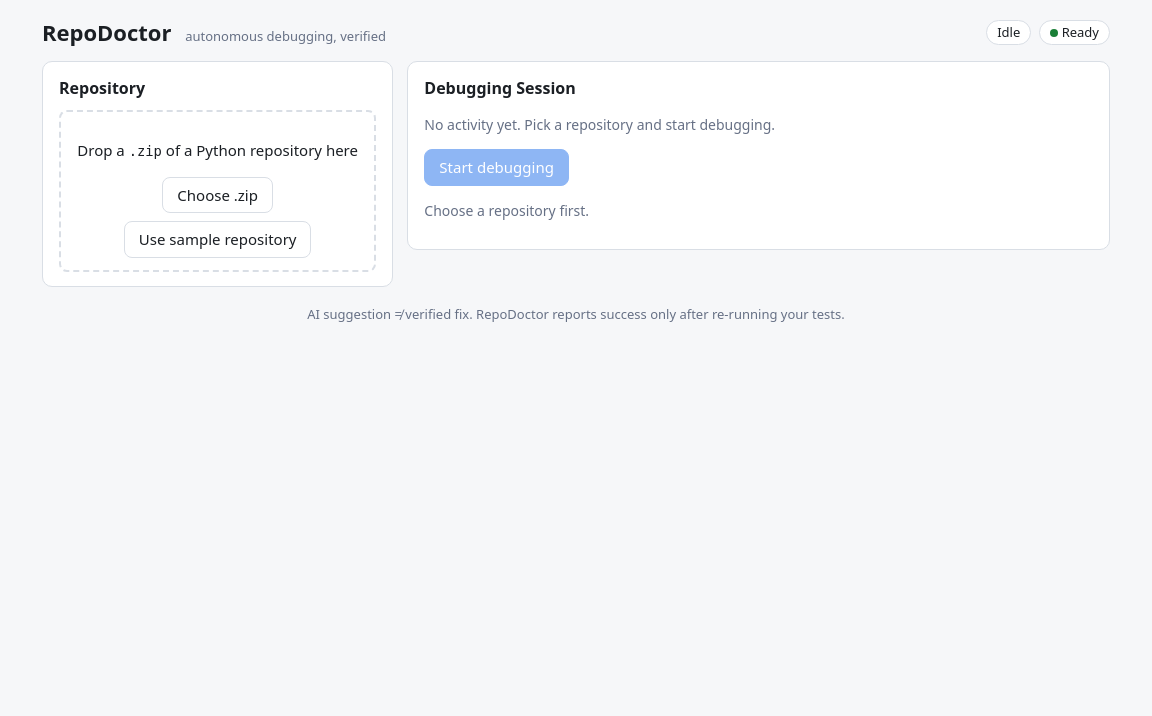
it: never claiming more than was verified › reports a time limit as a timeout
Click the button "Use sample repository" at [218, 239], box [124,221,311,258]
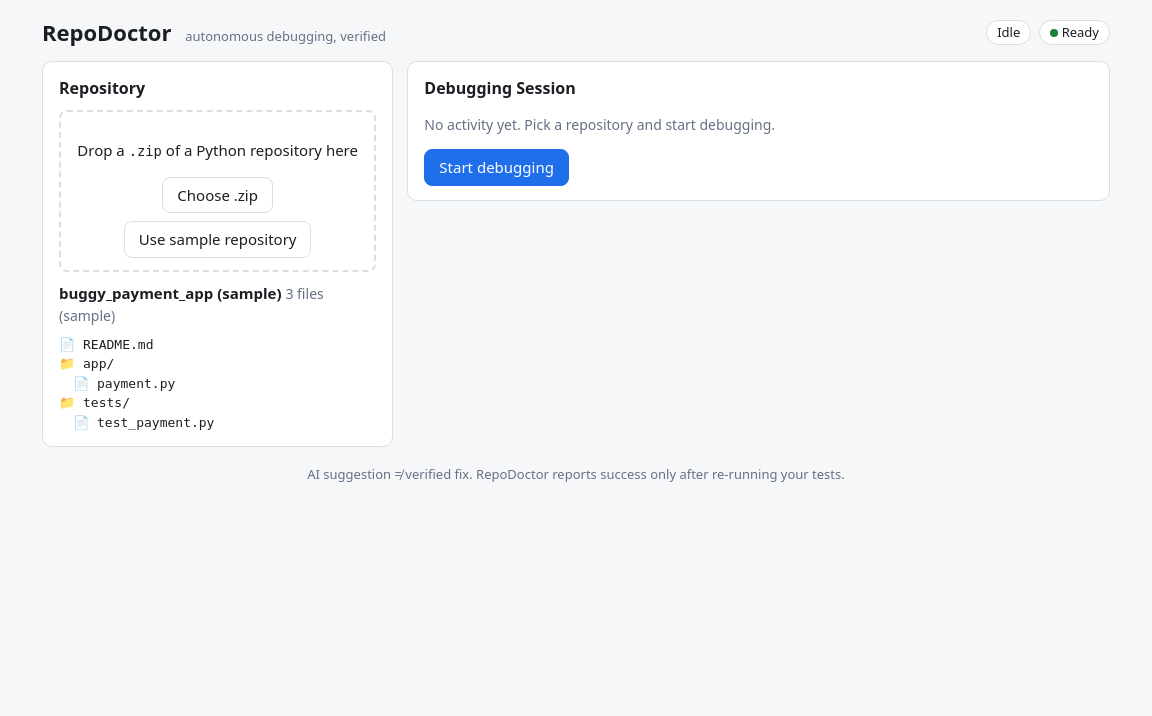
Expected: the list named "Repository files" is shown, [59,337,214,430]
Click the button "Start debugging" at [497, 167], box [424,149,569,186]
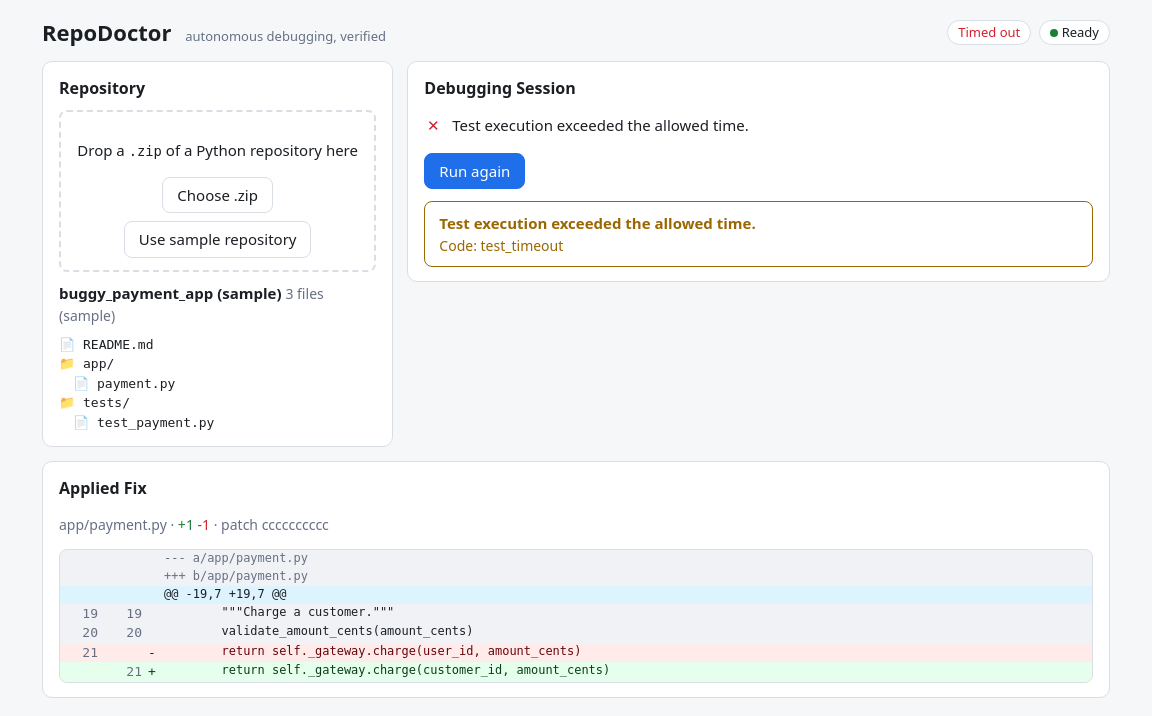
Expected: the message with test id "outcome" shows "Test execution exceeded the allowed time.", [439,213,756,233]
Expected: the text named "Session state" reads "Timed out", [958,23,1020,41]
